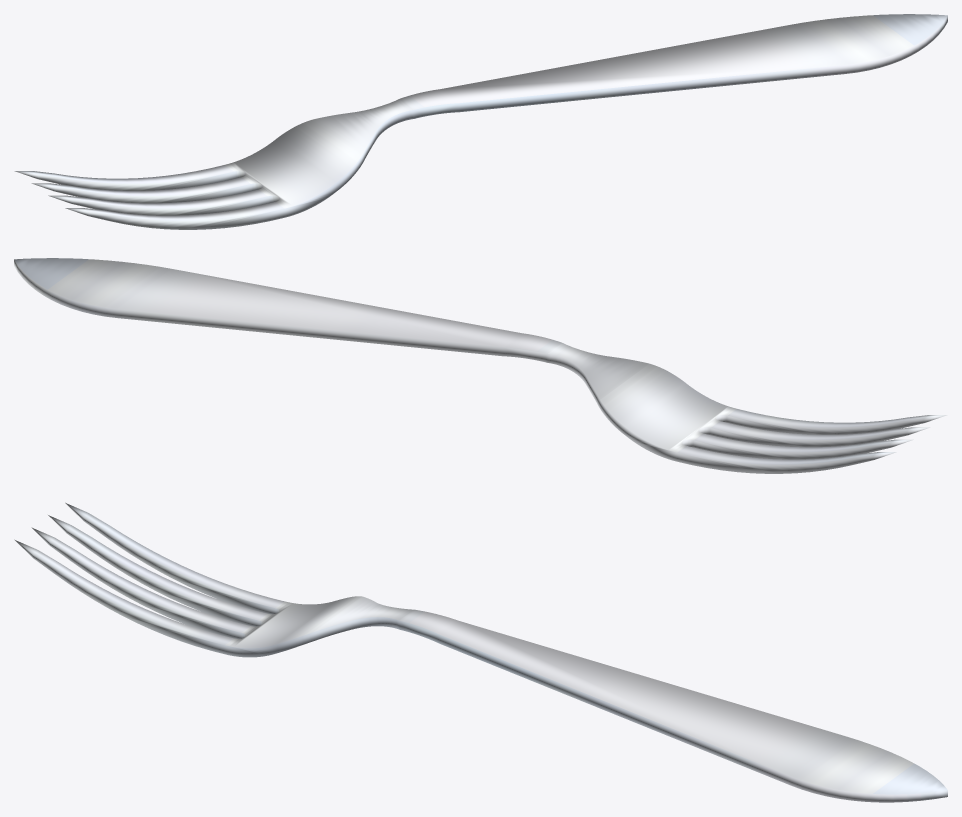
3 views of the same model, one above another, from view 1: azimuth 30°, elevation 25°; view 2: azimuth 150°, elevation 25°; view 3: azimuth 330°, elevation 25° (orthographic).
Parts seen in each view (by area): view 1: SketchUp; view 2: SketchUp; view 3: SketchUp.
Boxes of the visible parts, x1,y1,x2,y2 form: SketchUp: (14, 14, 947, 229); SketchUp: (14, 258, 947, 473); SketchUp: (14, 502, 947, 802).
Size of the model in its own units: 8.27 by 0.9449 by 0.5118.
1 material, 1 textured.
